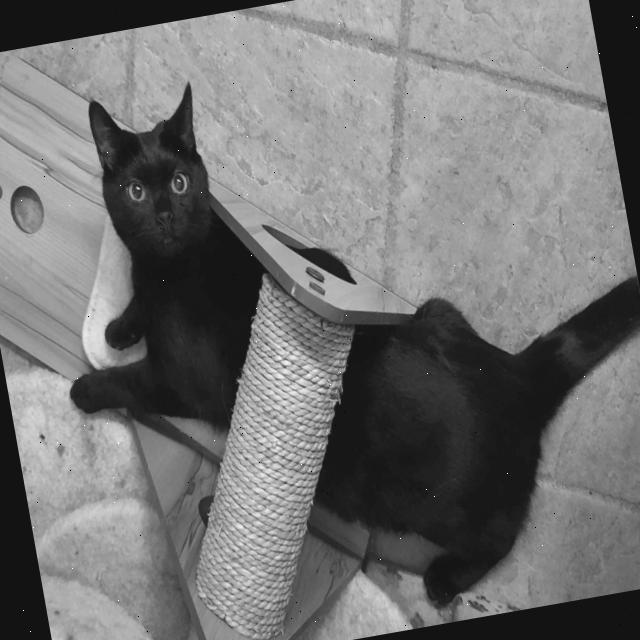bombay_cat: (78, 76, 228, 292)
